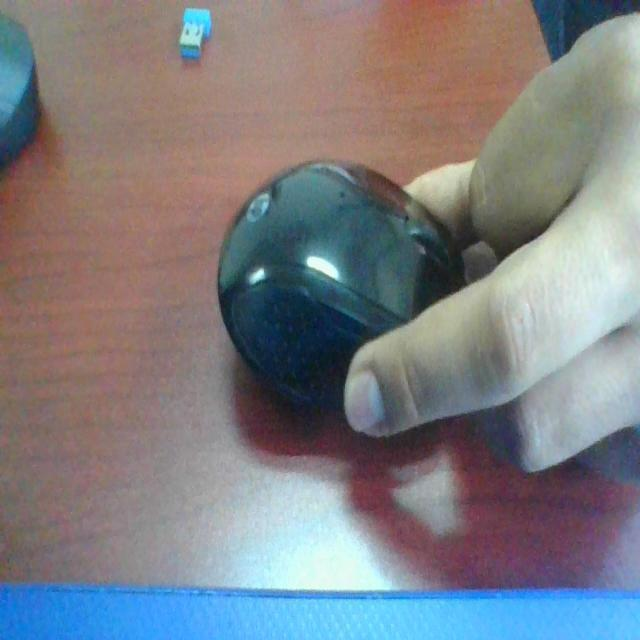Mouse: (233, 139, 474, 439)
